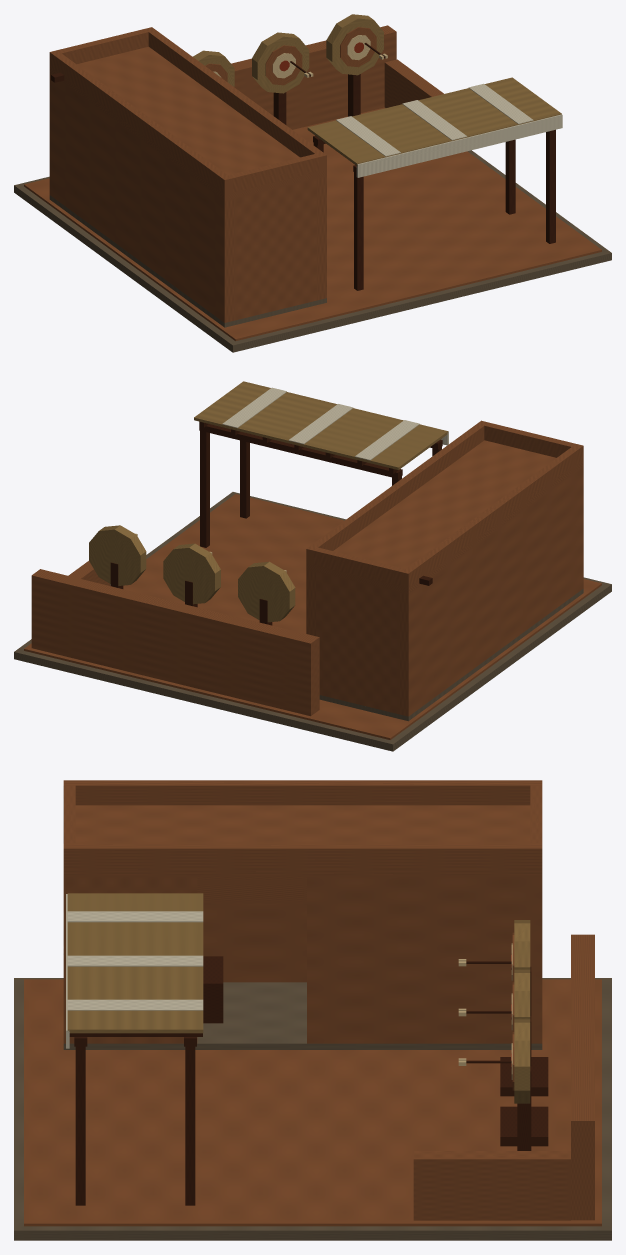
Rendered from Berber_Range_Age2.fbx.
The picture shows the model from 3 angles, top to bottom: view 1: azimuth 30°, elevation 25°; view 2: azimuth 150°, elevation 25°; view 3: azimuth 270°, elevation 25°; orthographic projection. The views are drawn at different scales.
Visible parts, largest first — view 1: court_floor, store_west_wall, store_roof, store_south_wall, woven_shooting_roof, foundation, target_earth_backstop, store_roof_parapet, store_roof_parapet.001, owner_front_valance, east_rear_boundary, store_end_parapet (+15 smaller); view 2: target_earth_backstop, store_west_wall, court_floor, store_roof, store_north_wall, woven_shooting_roof, foundation, store_roof_parapet, store_roof_parapet.001, target_2_straw, target_0_straw, target_1_straw (+10 smaller); view 3: court_floor, store_east_rear, store_roof, woven_shooting_roof, foundation, store_roof_parapet.001, store_roof_parapet, east_rear_boundary, store_floor, store_west_wall, target_earth_backstop, store_east_front (+15 smaller).
Part boxes in pixels (<box>): court_floor: <box>24,107,601,341</box>; store_west_wall: <box>49,73,234,322</box>; store_roof: <box>49,46,326,200</box>; store_south_wall: <box>235,178,316,320</box>; woven_shooting_roof: <box>307,77,561,165</box>; foundation: <box>14,150,611,352</box>; target_earth_backstop: <box>231,25,396,129</box>; store_roof_parapet: <box>49,50,232,194</box>; store_roof_parapet.001: <box>145,27,326,171</box>; owner_front_valance: <box>356,114,562,177</box>; east_rear_boundary: <box>384,59,443,107</box>; store_end_parapet: <box>228,154,319,192</box>; target_earth_backstop: <box>31,569,319,716</box>; store_west_wall: <box>398,466,583,716</box>; court_floor: <box>24,494,601,739</box>; store_roof: <box>306,440,583,594</box>; store_north_wall: <box>316,572,398,713</box>; woven_shooting_roof: <box>194,381,448,469</box>; foundation: <box>14,492,611,751</box>; store_roof_parapet: <box>401,444,583,588</box>; store_roof_parapet.001: <box>306,420,488,564</box>; target_2_straw: <box>89,525,146,585</box>; target_0_straw: <box>238,561,295,622</box>; target_1_straw: <box>163,543,220,604</box>; court_floor: <box>24,979,601,1226</box>; store_east_rear: <box>307,876,542,1043</box>; store_roof: <box>63,805,542,876</box>; woven_shooting_roof: <box>67,893,203,1033</box>; foundation: <box>14,978,611,1240</box>; store_roof_parapet.001: <box>63,843,542,868</box>; store_roof_parapet: <box>63,780,542,805</box>; east_rear_boundary: <box>413,1151,570,1220</box>; store_floor: <box>63,982,542,1049</box>; store_west_wall: <box>63,877,306,982</box>; target_earth_backstop: <box>571,934,594,1220</box>; store_east_front: <box>63,876,197,1043</box>.
Size of the model in its own units: 600 by 237 by 600.
7 materials, 7 textured.
